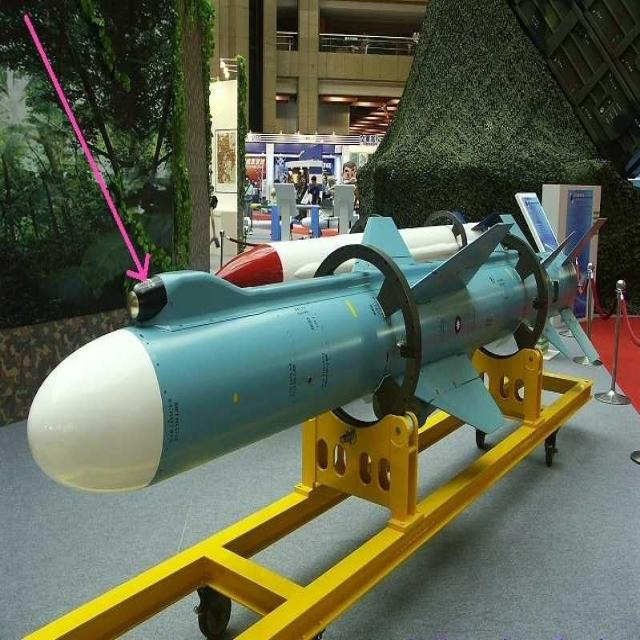missile: (25, 186, 611, 492)
